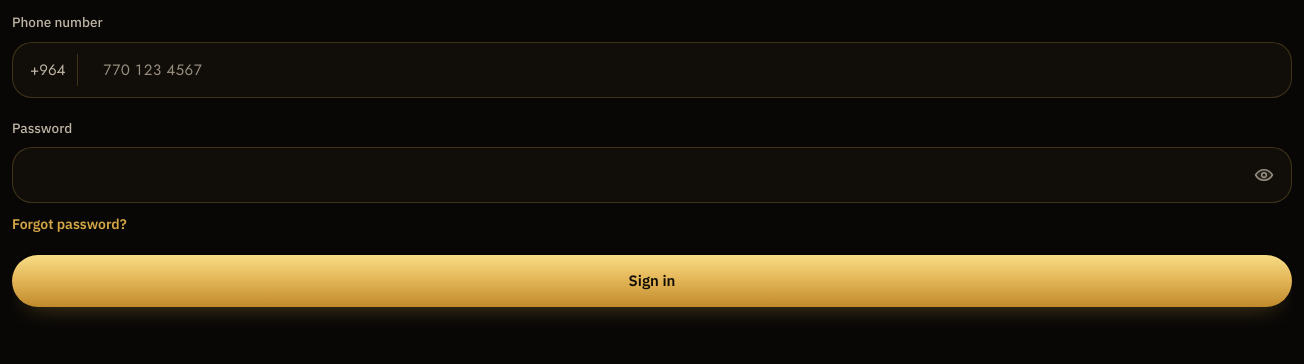
Scenario: LoginForm › shows a validation error for an invalid phone number
In the field labelled "Phone number": (652, 70) x1=12 y1=42 x2=1292 y2=98, type "not-a-phone"
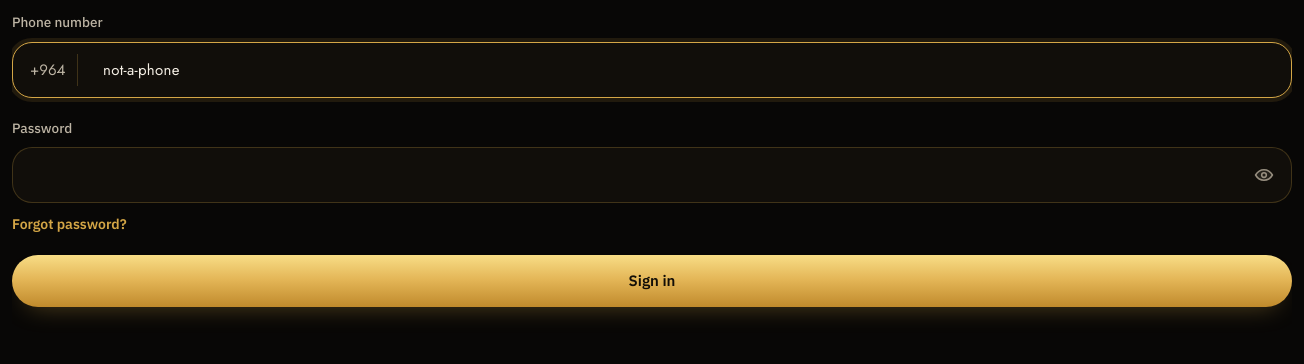
In the password field labelled "Password": (652, 175) x1=12 y1=147 x2=1292 y2=203, type "validpassword123"
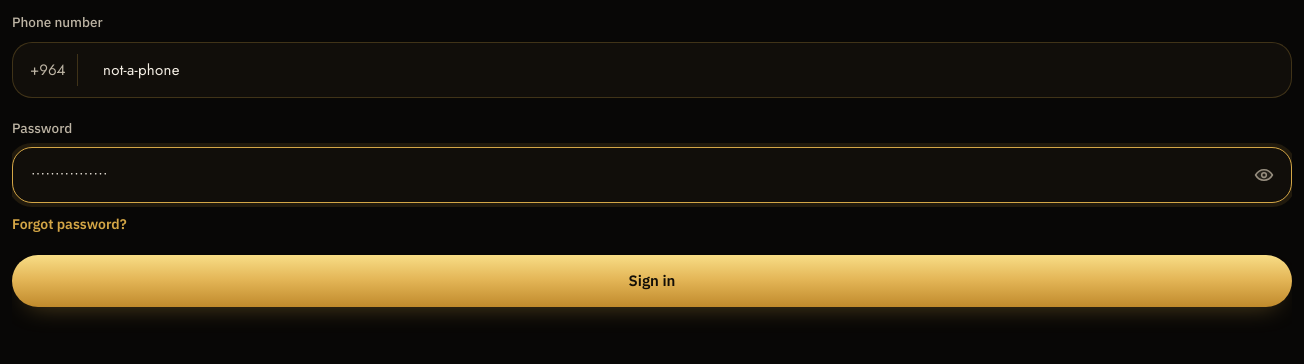
Click the button "Sign in": (652, 281) x1=12 y1=255 x2=1292 y2=307
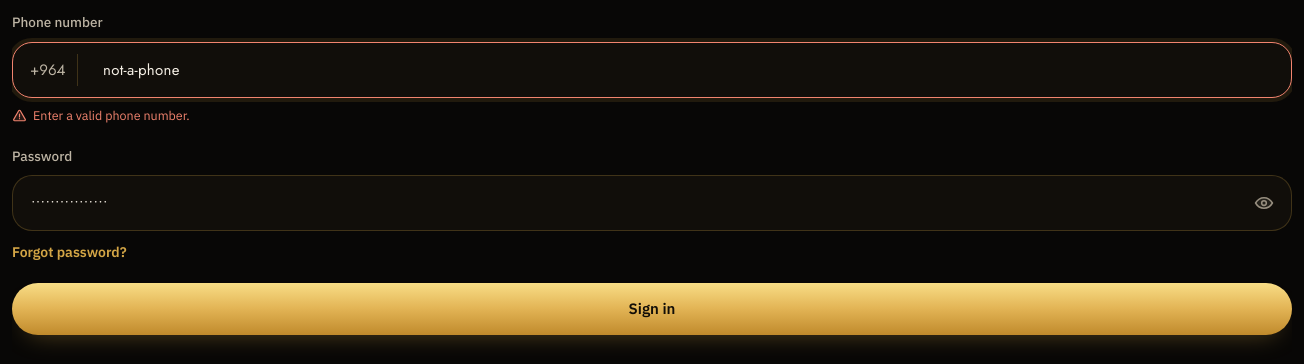
Expected: the message shows "valid phone", x1=33 y1=106 x2=190 y2=125
